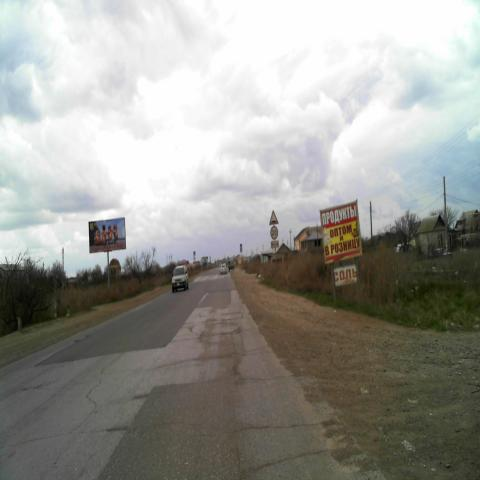1_17: (269, 208, 278, 225)
